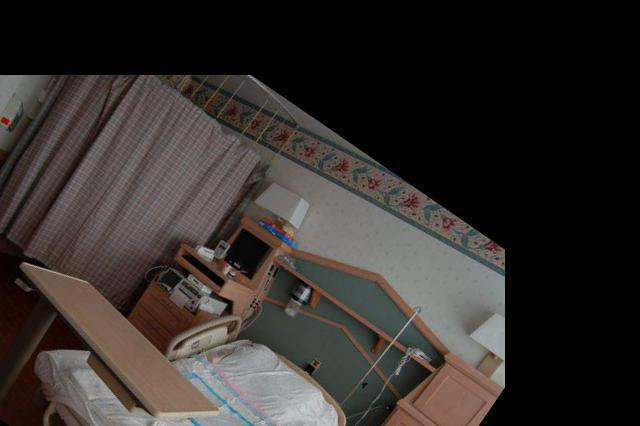Puerta: (0, 0, 75, 246)
